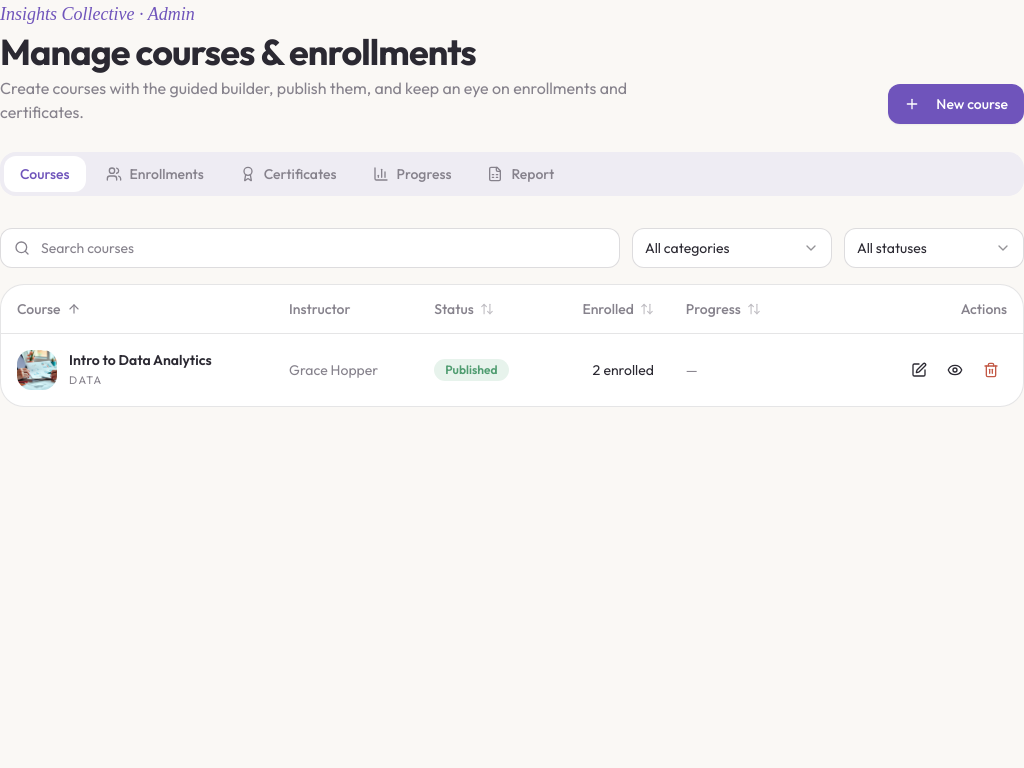
Test: AdminCourses › certificates tab › revokes a certificate through the confirm dialog via a real delete call
Click the tab "Certificates": (288, 174) [224,156,353,192]
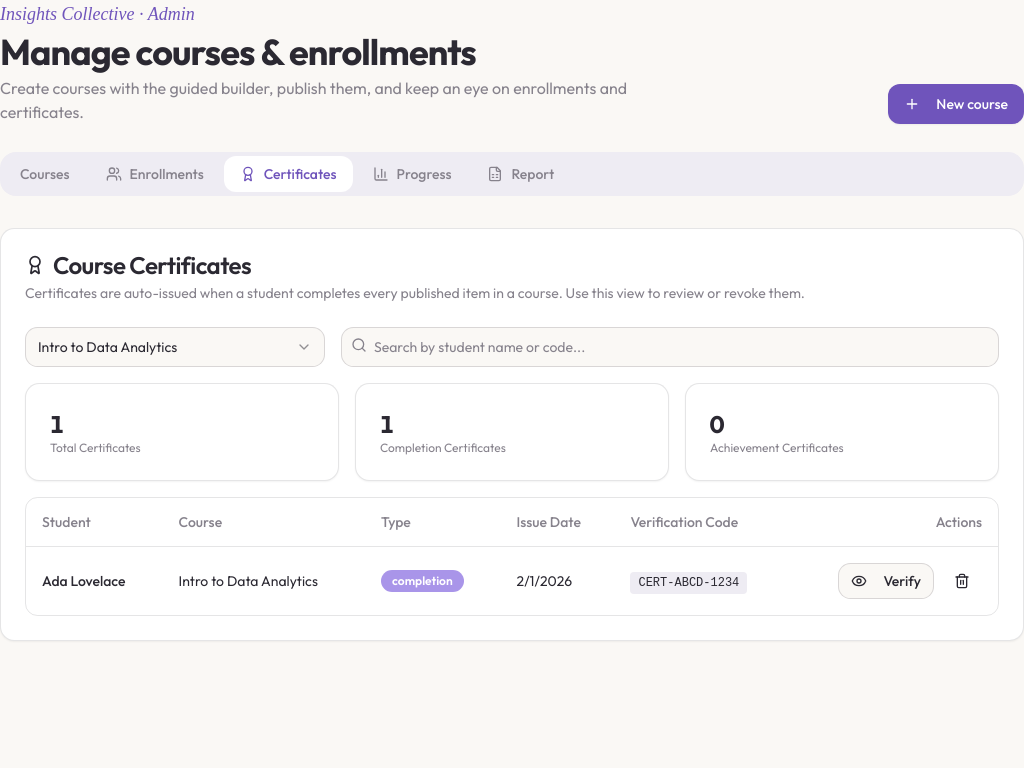
Click the 3rd button: (962, 580) [942,562,982,598]
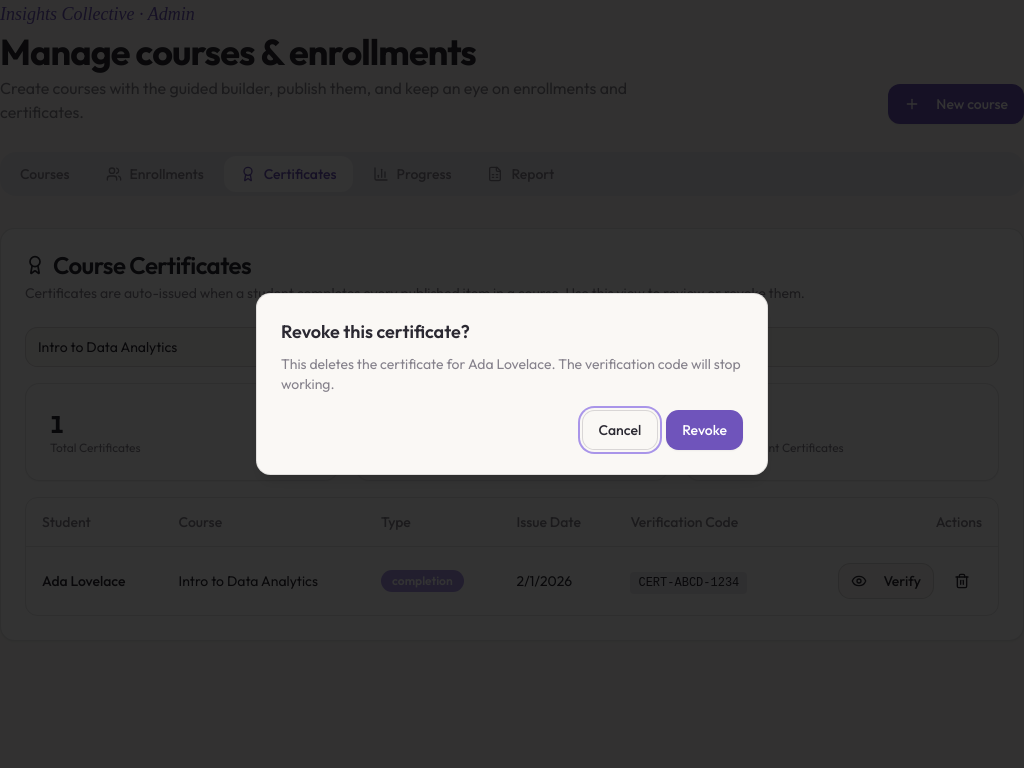
Click the button "Revoke": (705, 430) [666,410,743,450]
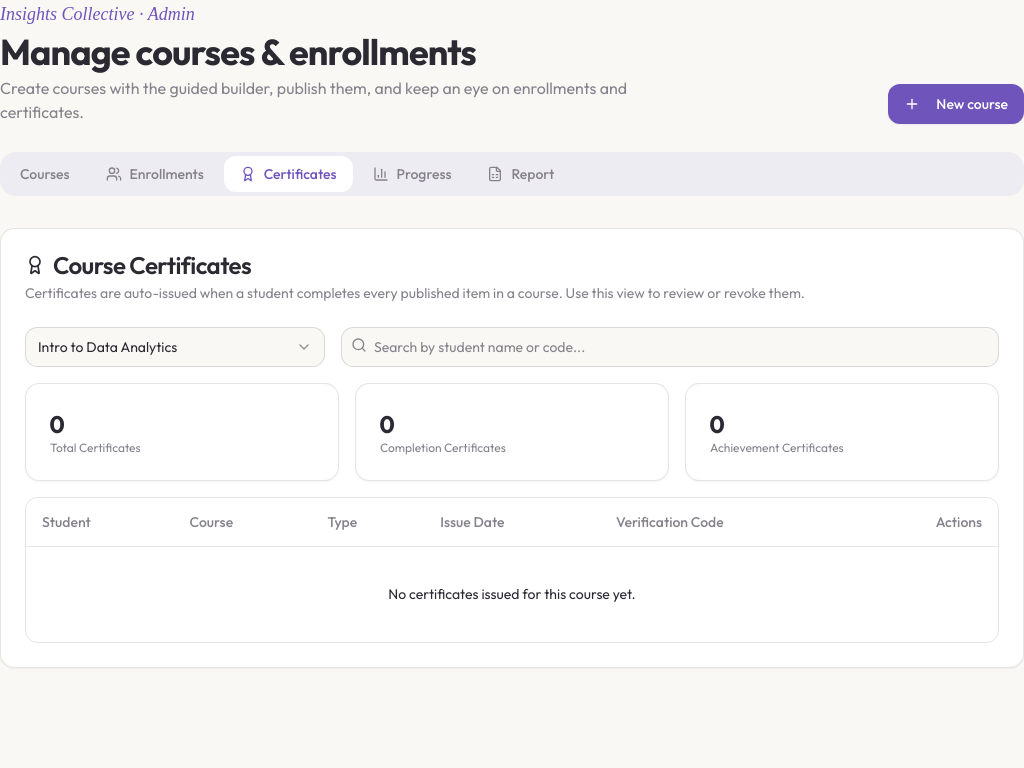
Check: the text "Ada Lovelace" is gone
